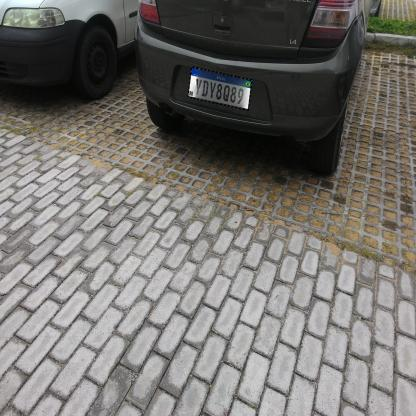PlacaM: (187, 66, 253, 111)
